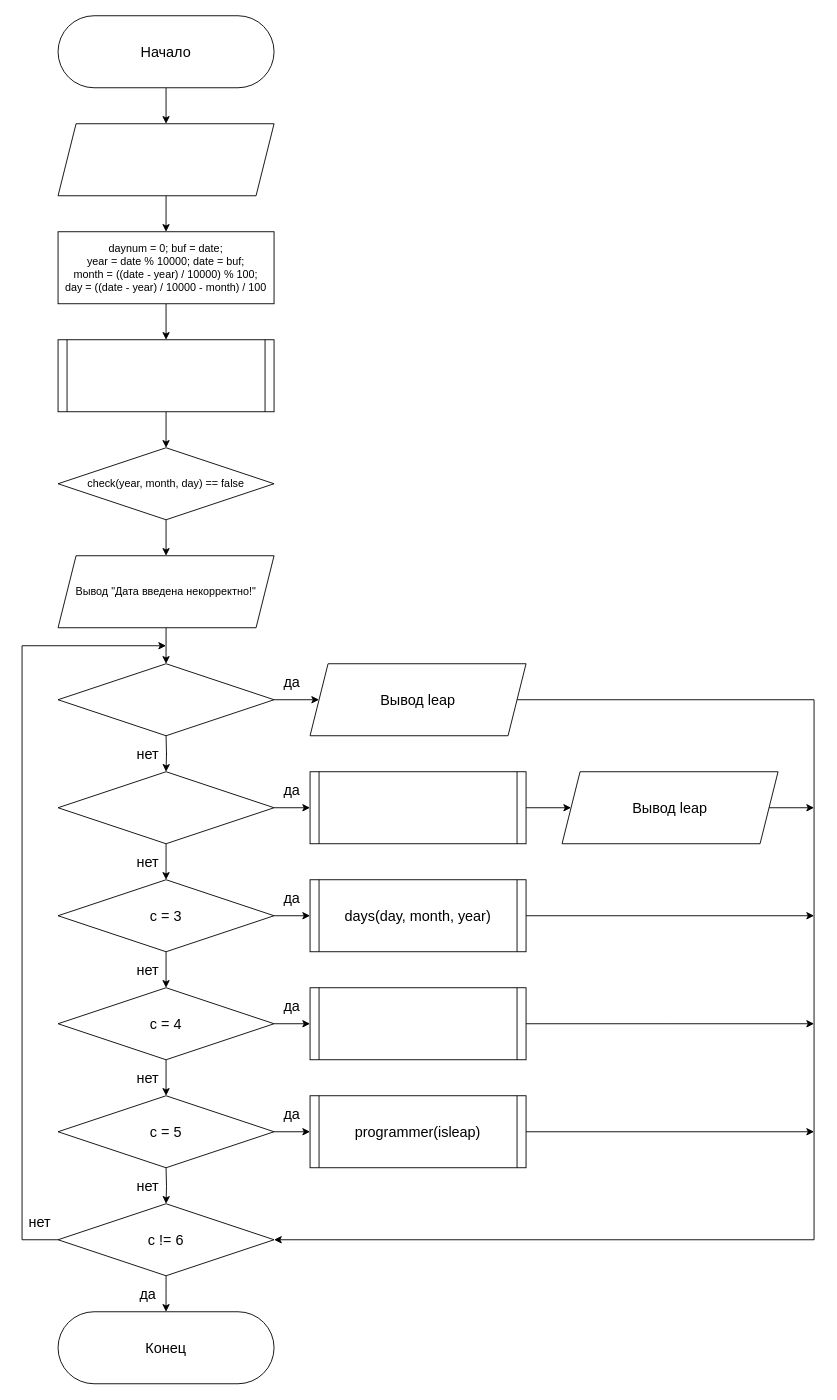
This 837x1400 diagram has some shape labels left out. The centre of each missing label's shape, as x and y in pixels:
c = 1: the point at 165,699
c = 2: the point at 165,807
daynum = number(day, month, year): the point at 417,807
leapyear(year): the point at 165,375
namemonth(month): the point at 417,1023
Ввод c, buf, day, month, year, date, daynum: the point at 165,159
